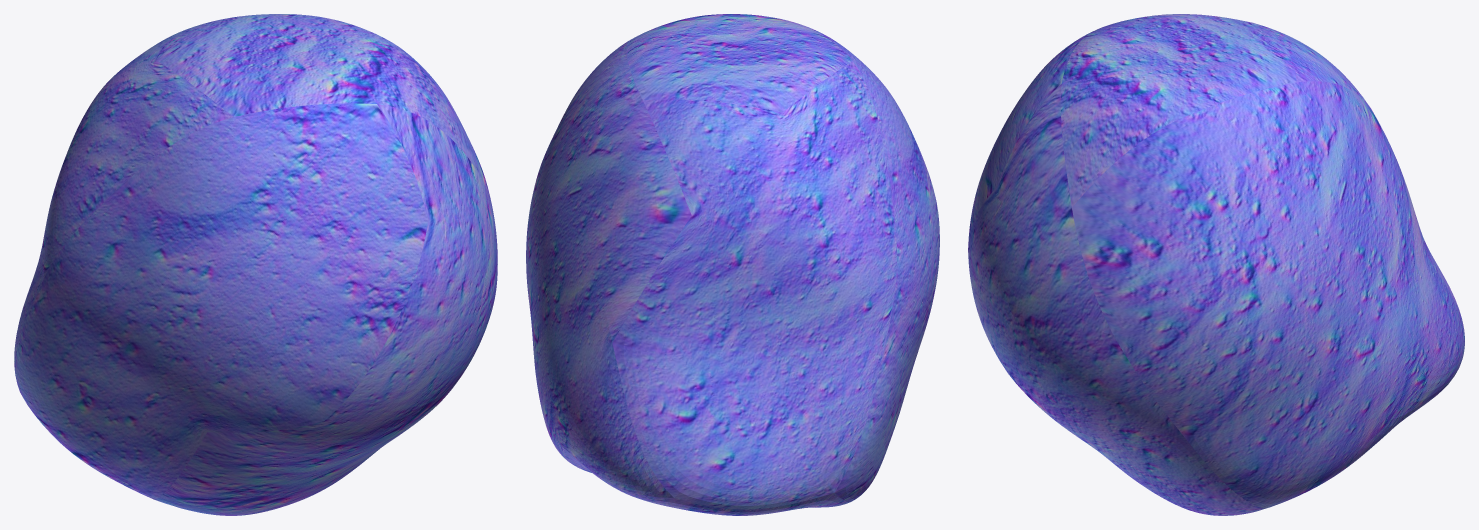
File: bigasteroid0_LOD0.fbx
3 views of the same model, side by side, from view 1: azimuth 30°, elevation 25°; view 2: azimuth 150°, elevation 25°; view 3: azimuth 270°, elevation 25° (orthographic). The views are drawn at different scales.
Parts seen in each view (by area): view 1: Icosphere; view 2: Icosphere; view 3: Icosphere.
Boxes of the visible parts, left/top/right/bottom form: Icosphere: left=14, top=14, right=497, bottom=515; Icosphere: left=526, top=14, right=939, bottom=515; Icosphere: left=968, top=14, right=1464, bottom=515.
Size of the model in its own units: 195 by 218 by 219.
